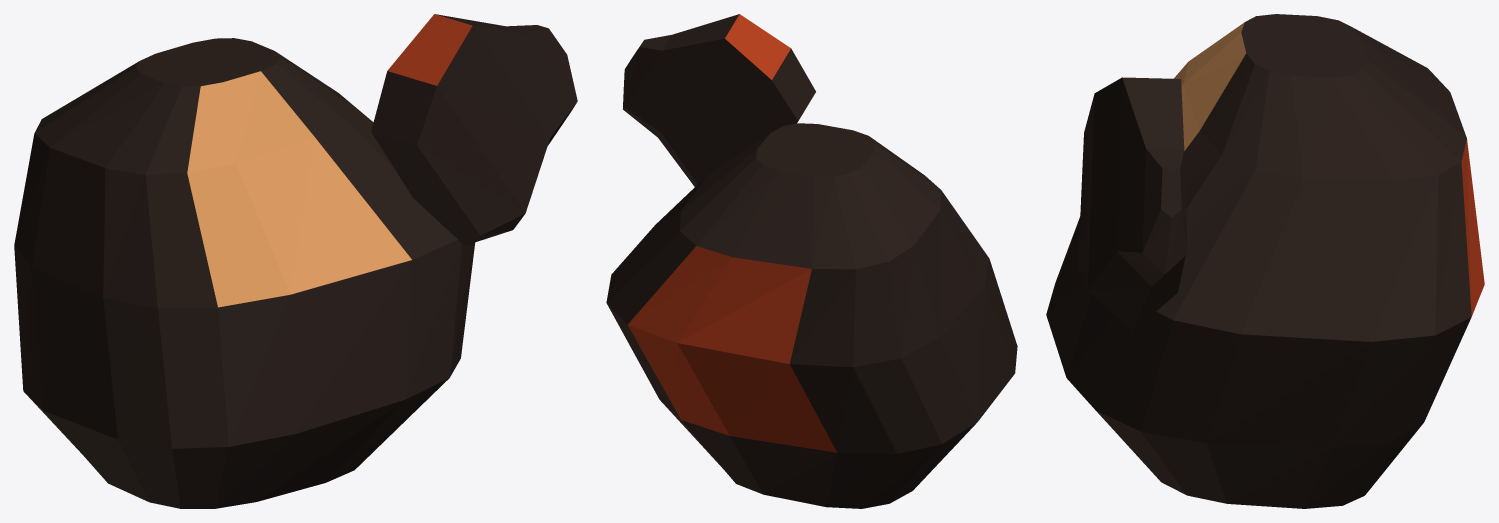
File: cinder.gltf
3 renders of one model, left to right at view 1: azimuth 30°, elevation 25°; view 2: azimuth 150°, elevation 25°; view 3: azimuth 270°, elevation 25°, orthographic. The views are drawn at different scales.
Visible parts, largest first — view 1: cinder; view 2: cinder; view 3: cinder.
Boxes of the visible parts, box(x1,y1,x2,y2) form: cinder: box(14, 14, 577, 508); cinder: box(606, 14, 1017, 508); cinder: box(1046, 14, 1484, 508).
Size of the model in its own units: 0.2234 by 0.2028 by 0.1693.
